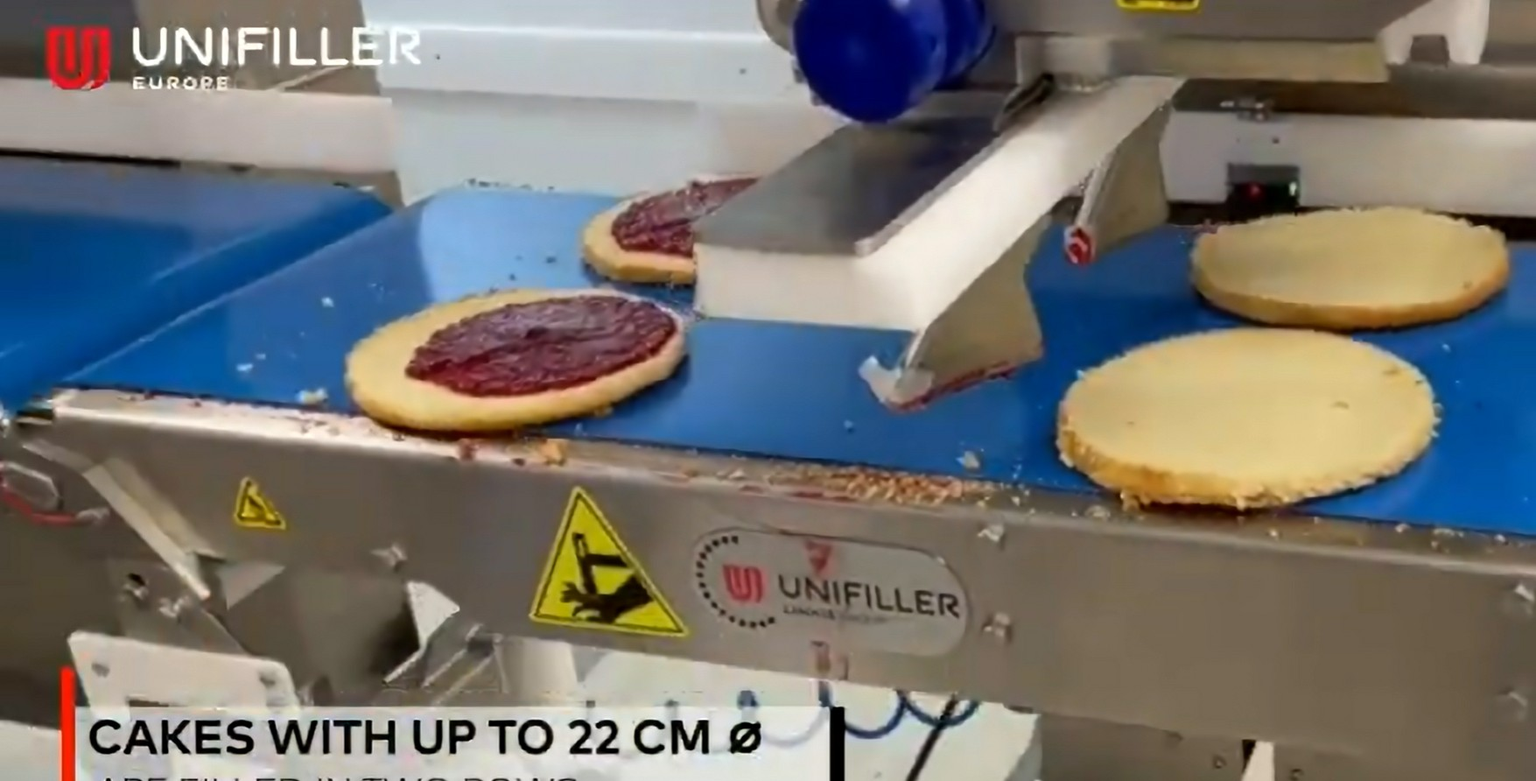Jam Coated: (347, 293, 685, 439), (575, 186, 767, 276)
Sponge Cake: (1061, 321, 1437, 518), (1188, 206, 1515, 320)
